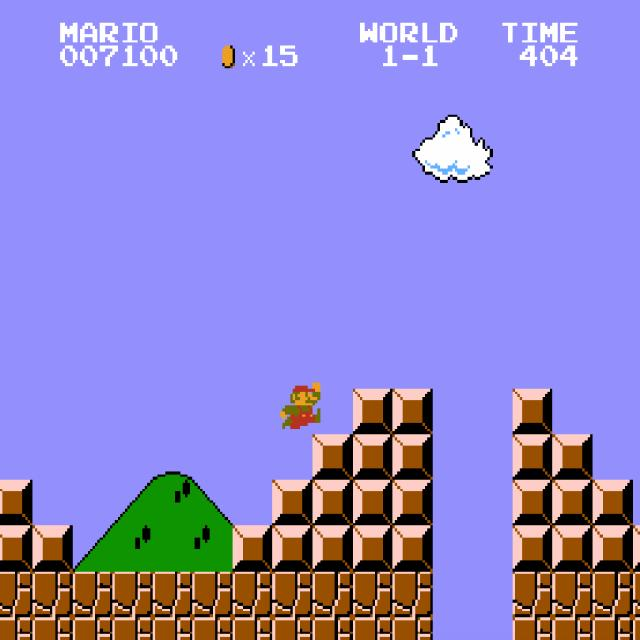hard_block: (272, 480, 313, 526), (312, 434, 353, 480), (312, 480, 353, 526), (352, 434, 393, 480), (352, 480, 393, 526), (392, 434, 433, 480), (392, 480, 433, 526), (512, 434, 553, 480), (512, 480, 553, 526), (552, 434, 593, 480), (552, 480, 593, 526), (592, 480, 633, 526), (32, 526, 73, 571), (232, 526, 273, 571), (272, 526, 313, 571), (312, 526, 353, 571), (352, 389, 393, 434), (352, 526, 393, 571), (392, 389, 433, 434), (392, 526, 433, 571), (512, 389, 553, 434), (512, 526, 553, 571), (552, 526, 593, 571), (592, 526, 633, 571), (0, 525, 32, 571), (0, 480, 32, 525), (633, 526, 640, 571)
little_mario: (277, 380, 320, 429)
undestructible_block: (32, 572, 73, 617), (72, 572, 113, 617), (112, 572, 153, 617), (152, 572, 193, 617), (192, 572, 233, 617), (232, 572, 273, 617), (272, 572, 313, 617), (312, 572, 353, 617), (352, 572, 393, 617), (392, 572, 433, 617), (512, 572, 553, 617), (552, 572, 593, 617), (592, 572, 633, 617), (0, 571, 32, 617), (32, 617, 73, 640), (72, 617, 113, 640), (112, 617, 153, 640), (152, 617, 193, 640), (192, 617, 233, 640), (232, 617, 273, 640), (272, 617, 313, 640), (312, 617, 353, 640), (352, 617, 393, 640), (392, 617, 433, 640), (512, 617, 553, 640), (552, 617, 593, 640), (592, 617, 633, 640), (0, 617, 32, 639), (633, 572, 640, 617), (633, 617, 640, 640)
